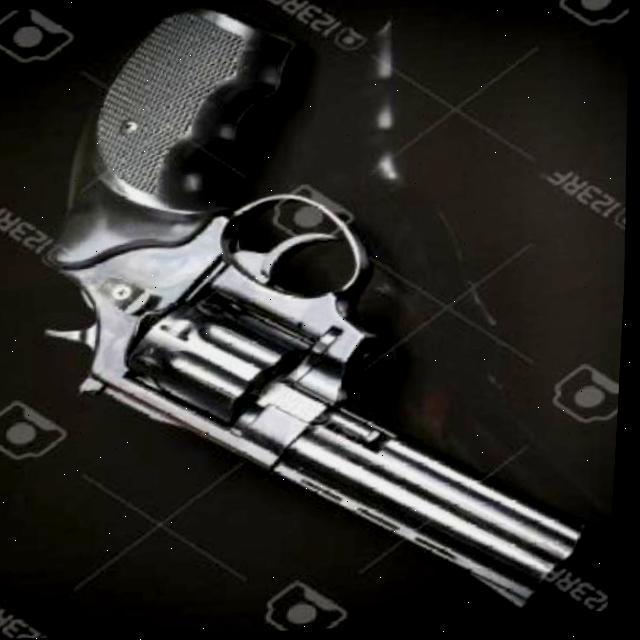gun: (16, 0, 620, 639)
